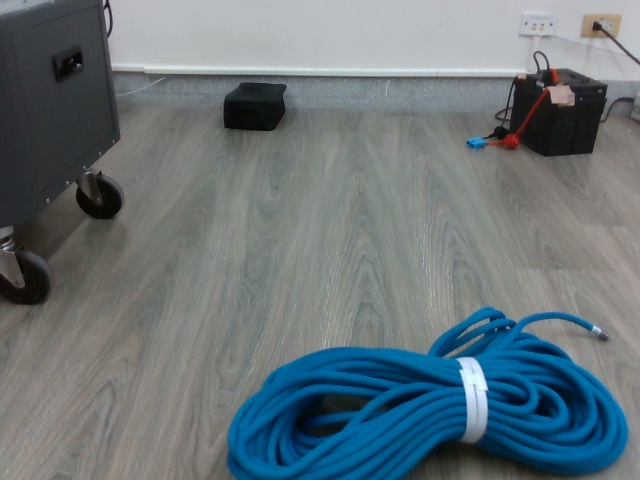rope: (228, 303, 631, 480)
